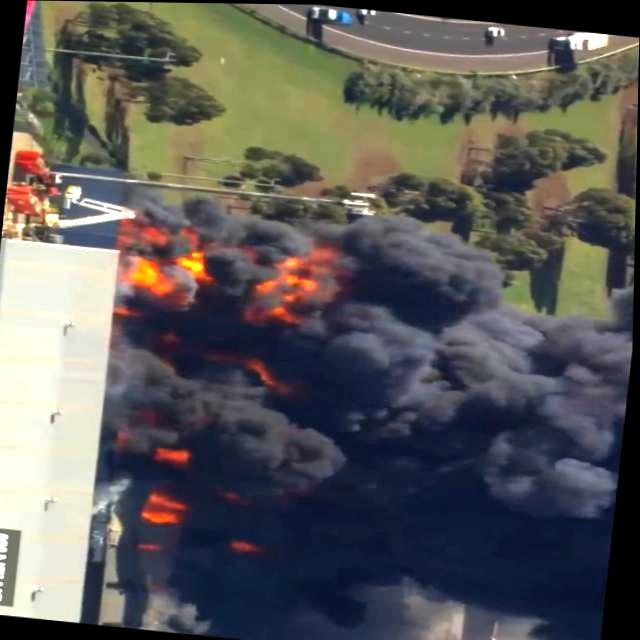fire: (261, 256, 339, 324), (120, 245, 183, 302), (139, 488, 197, 536), (146, 438, 214, 474), (241, 352, 287, 392), (179, 248, 225, 286), (226, 534, 274, 558)
